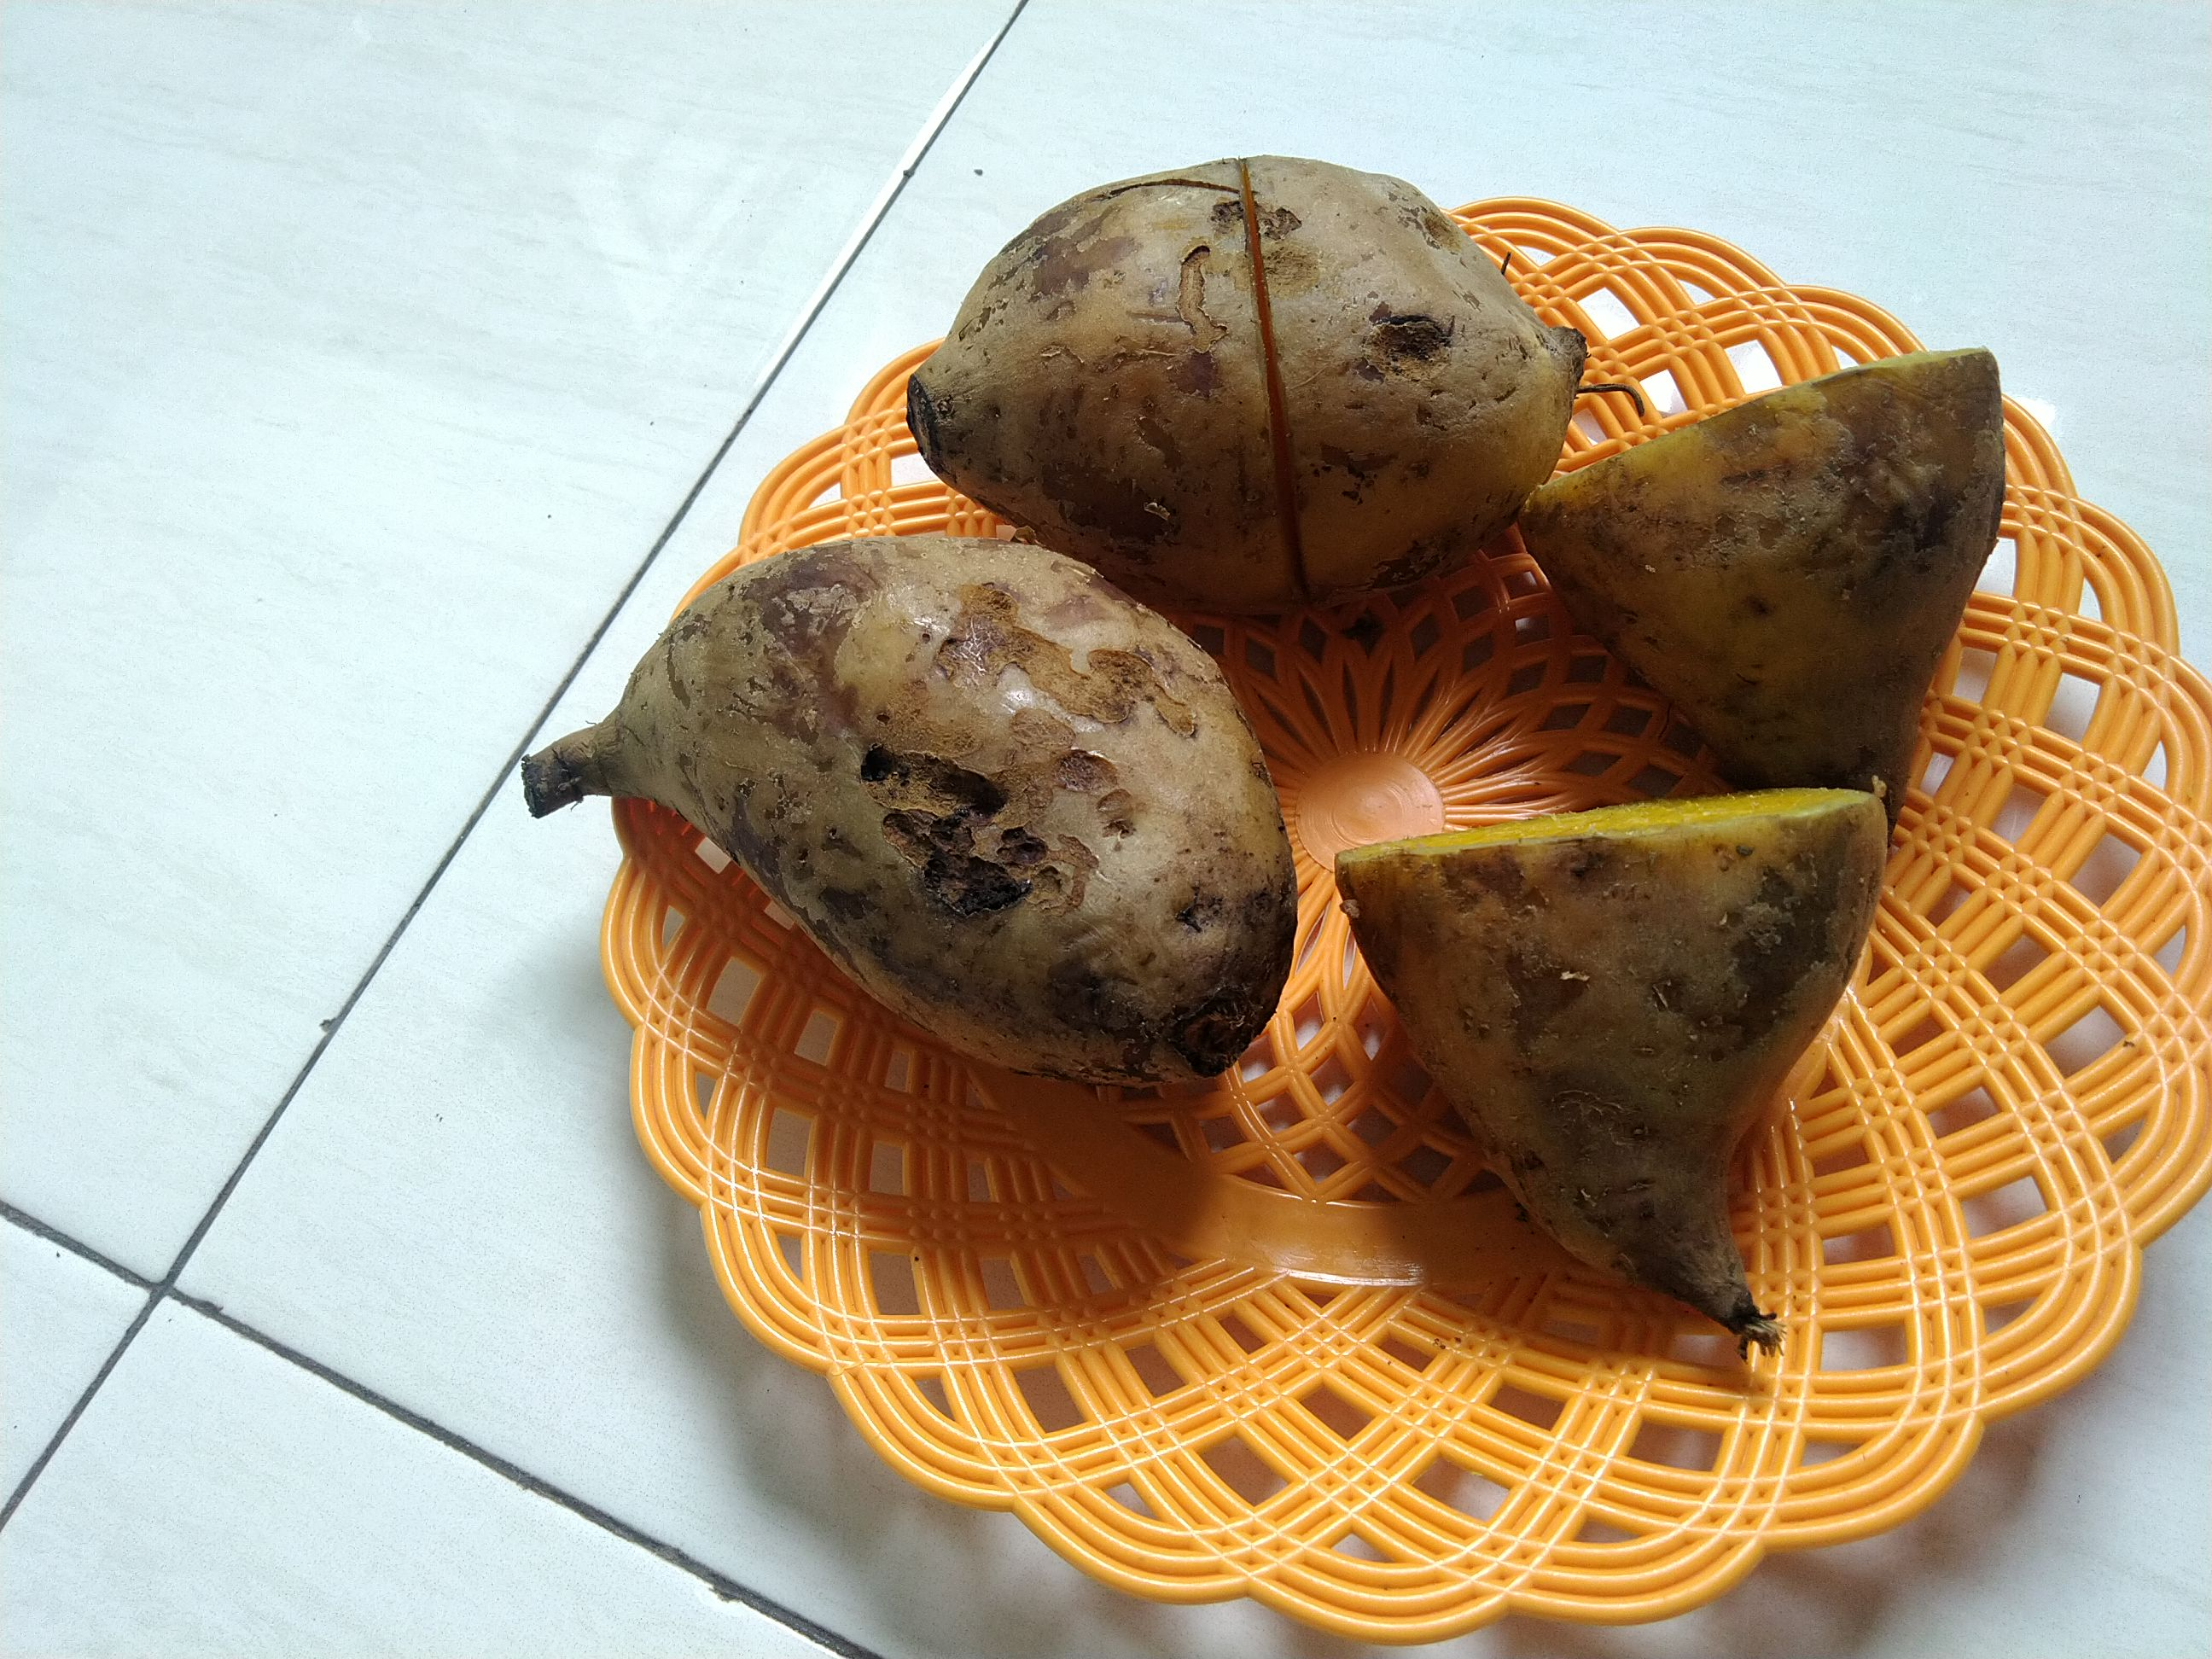ubi kuning: (503, 139, 2038, 1354), (500, 535, 1336, 1082), (1313, 756, 1900, 1354), (895, 112, 1585, 596), (1521, 322, 2008, 793)
